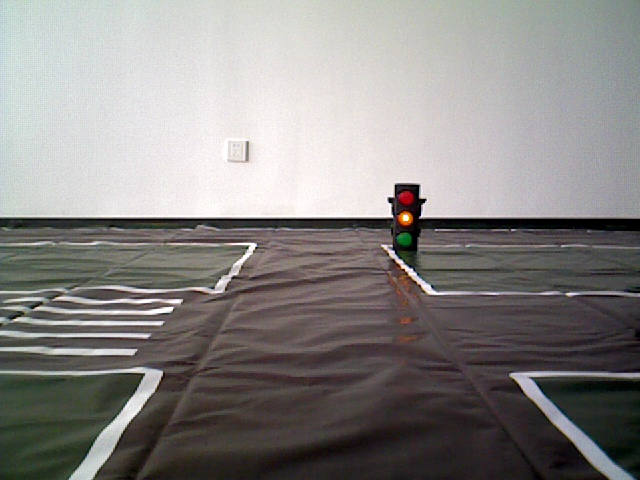yellow: (387, 179, 425, 248)
